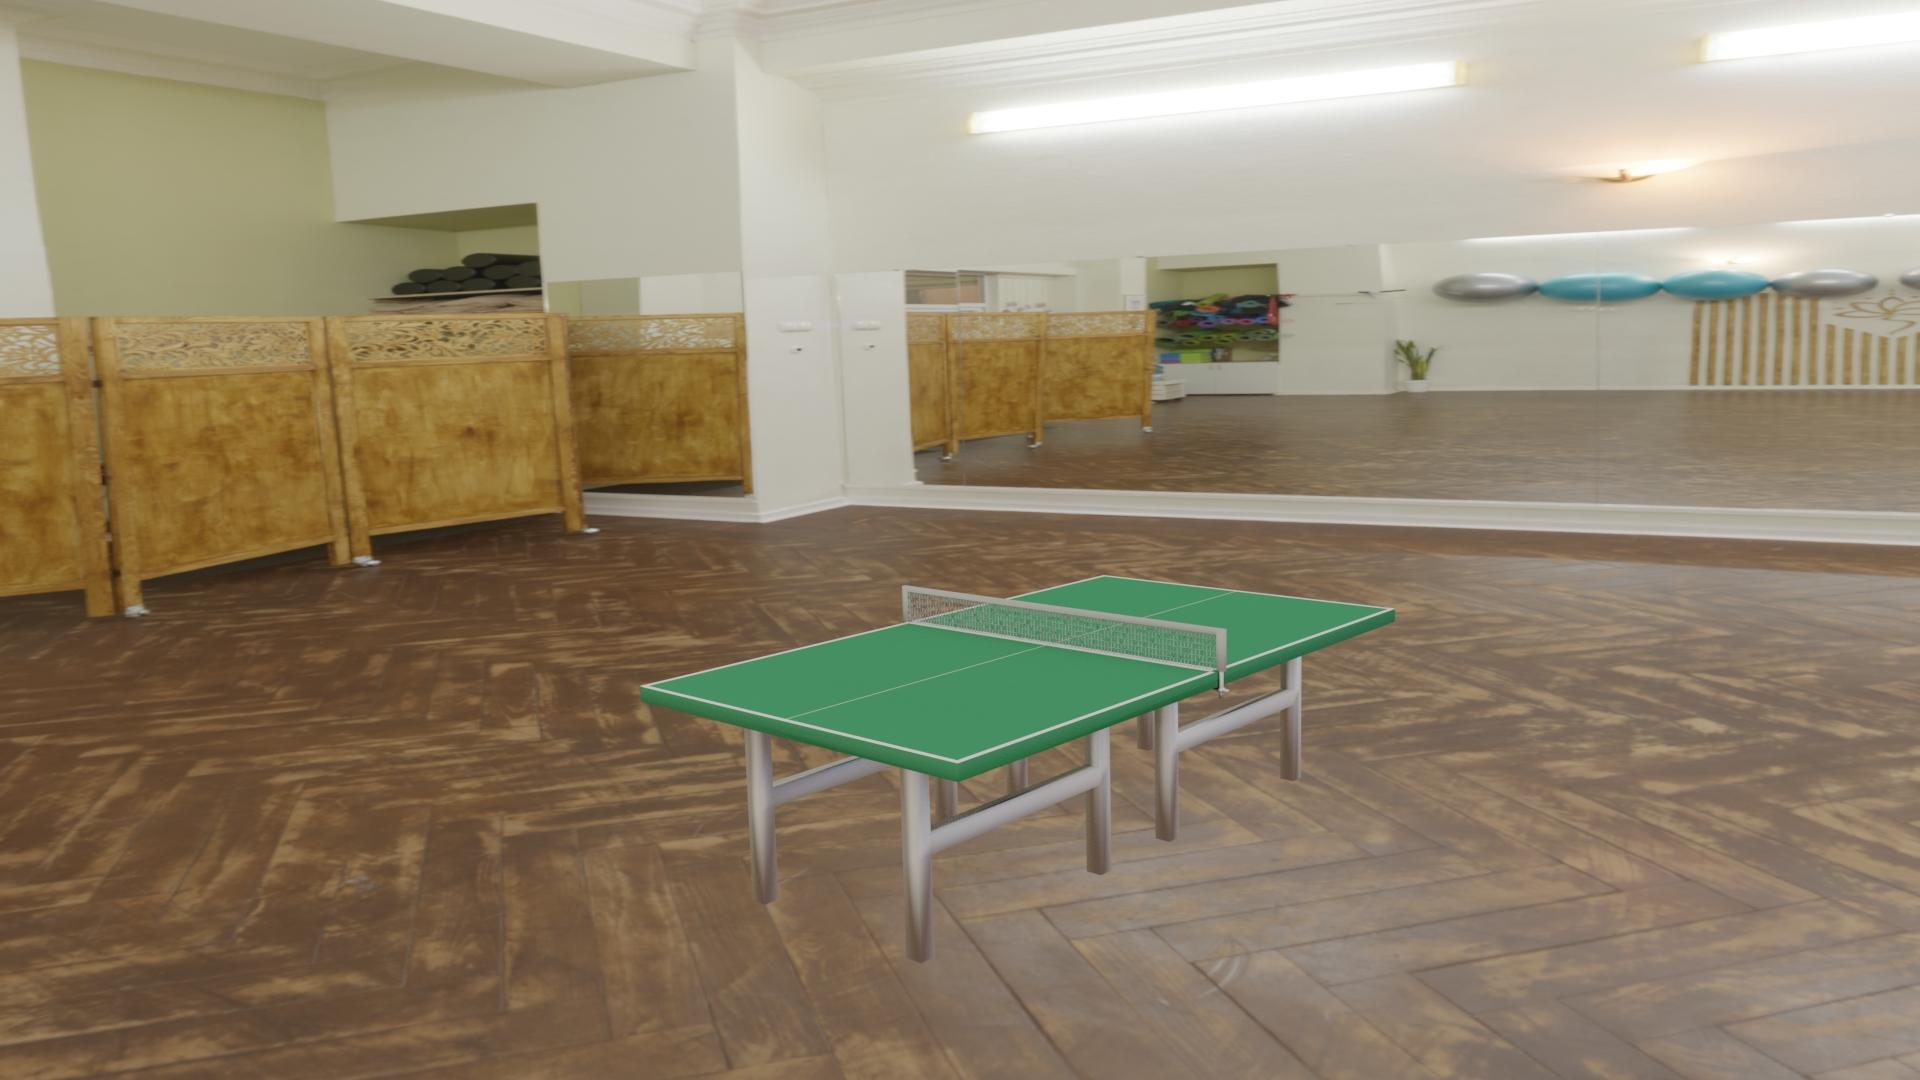table: (647, 576, 1389, 761)
